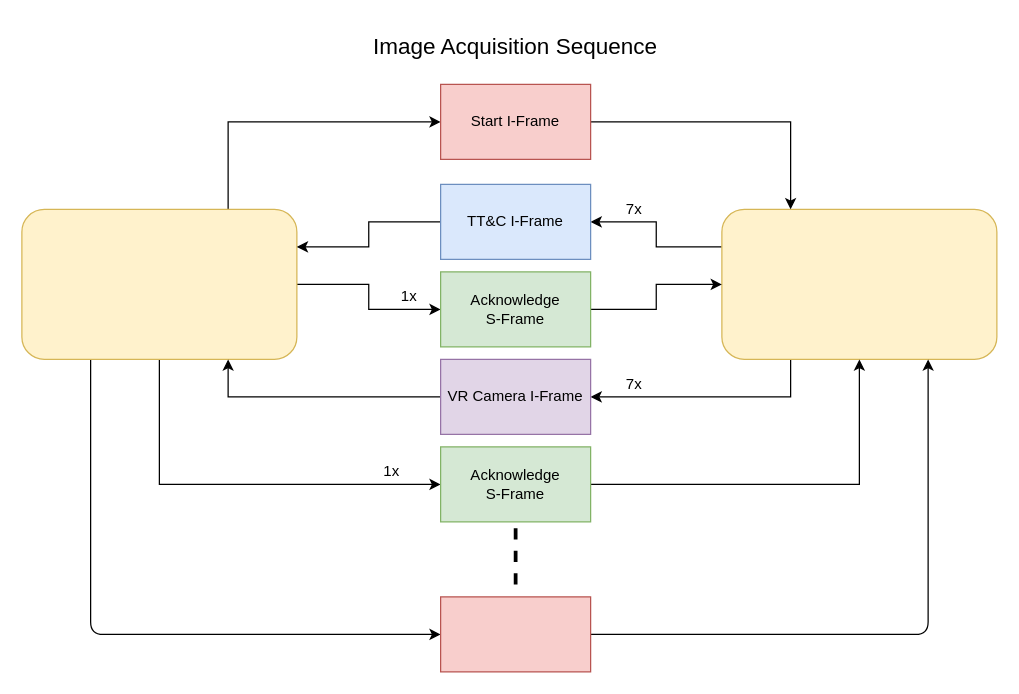
This 1019x694 diagram has some shape labels left out. The box of each missing label's shape, as (x1, y1, x2, y2) in pixels:
End Transmission S-Frame: (439, 596, 591, 672)
Primary Station Western / Other Ground Station: (21, 208, 297, 359)
Secondary Station Ukpik: (721, 208, 997, 359)
